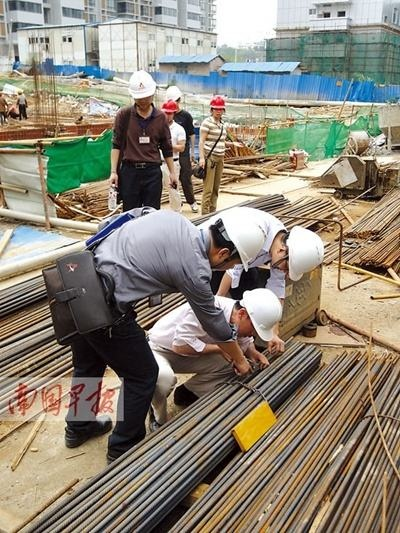red: (208, 94, 226, 121), (159, 100, 178, 125)
white: (203, 206, 263, 277), (267, 220, 327, 283), (230, 283, 282, 346), (125, 68, 157, 110)
